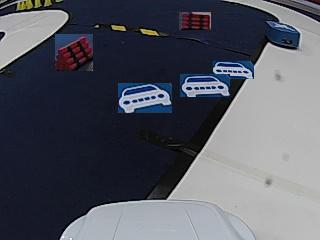prop: (267, 21, 299, 49)
